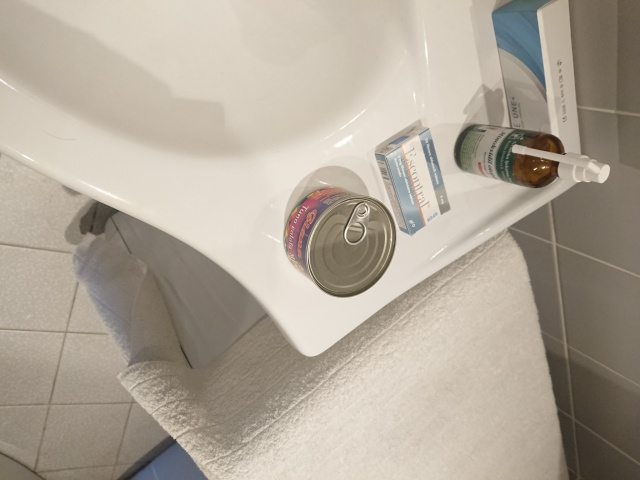Giana Tuna Salad Mexico 185g: (281, 184, 398, 300)
